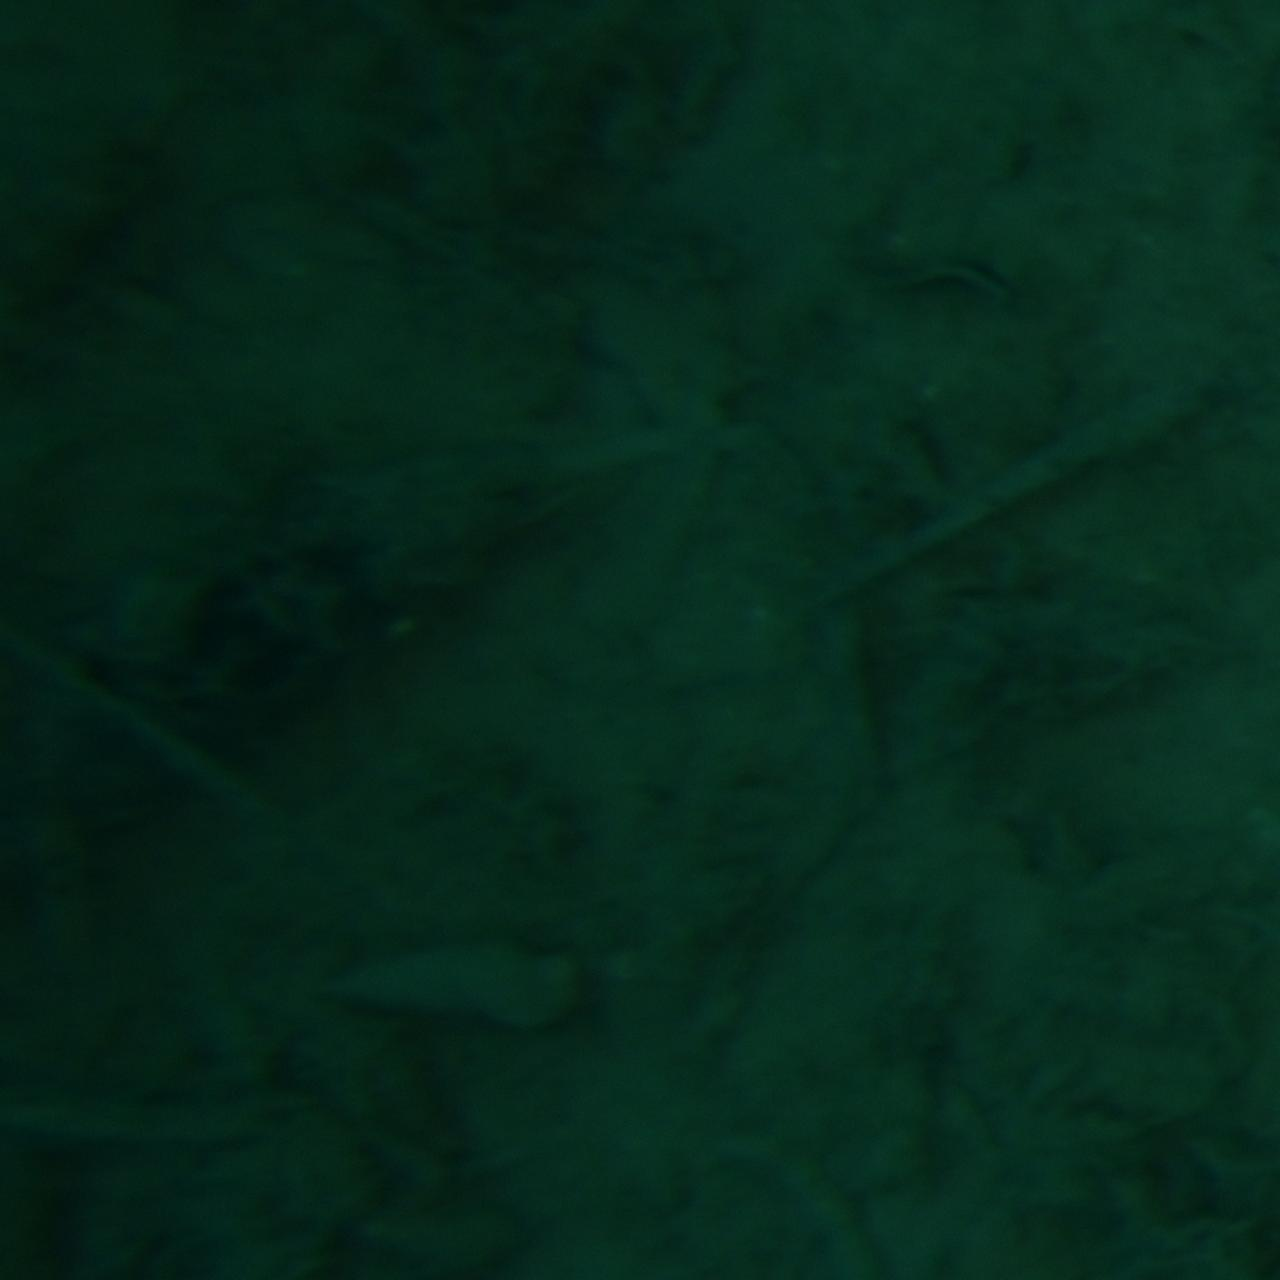Holothuria tubulosa: (0, 409, 594, 871)
